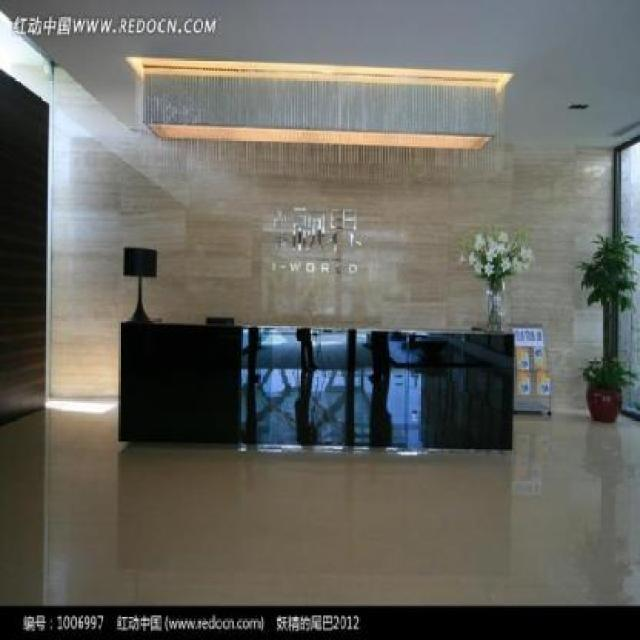frontdesk: (103, 301, 524, 464)
